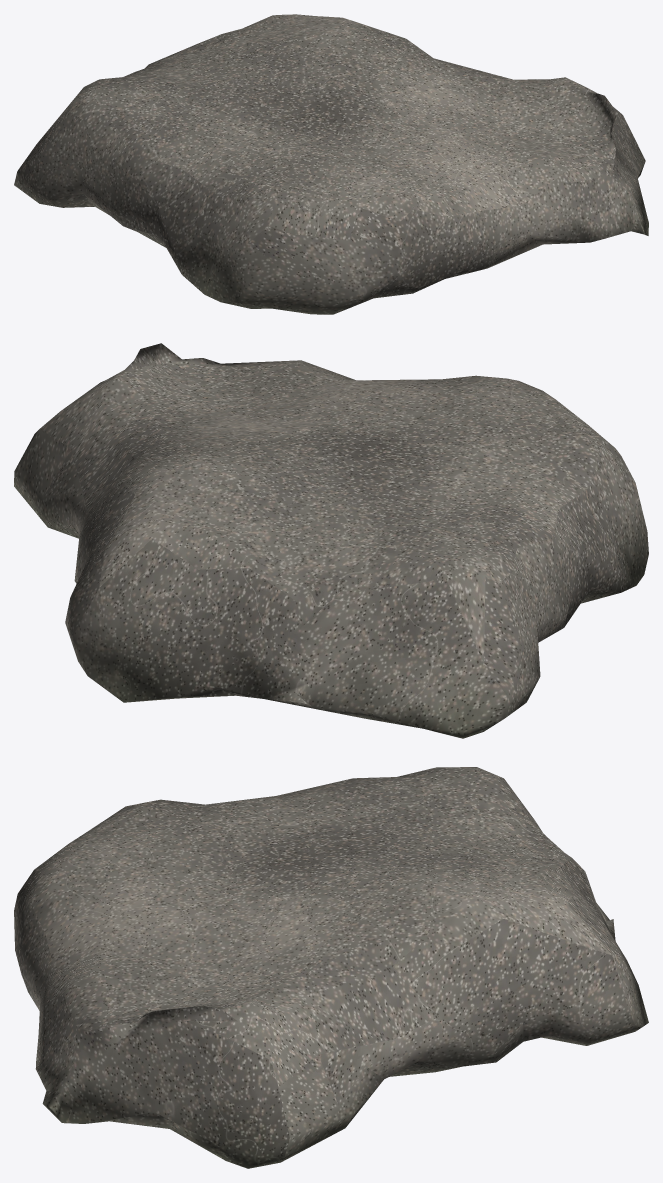
The model's file is Pebble_Round_2.gltf.
The picture shows the model from 3 angles, top to bottom: view 1: azimuth 30°, elevation 25°; view 2: azimuth 150°, elevation 25°; view 3: azimuth 270°, elevation 25°; orthographic projection. The views are drawn at different scales.
Visible parts, largest first — view 1: Pebble_Round_2; view 2: Pebble_Round_2; view 3: Pebble_Round_2.
Part boxes in pixels (<box>): Pebble_Round_2: <box>14,14,648,314</box>; Pebble_Round_2: <box>14,343,648,738</box>; Pebble_Round_2: <box>14,767,648,1168</box>.
Size of the model in its own units: 0.4197 by 0.1053 by 0.3806.
Materials: 1 (1 with a texture image).
